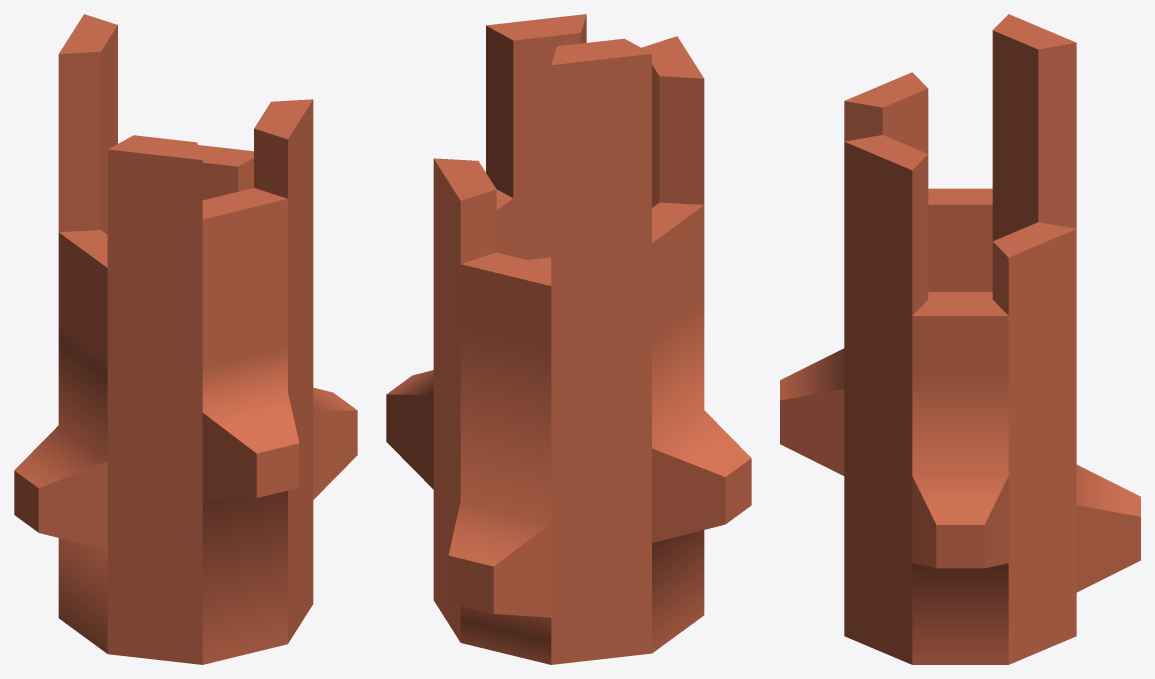
Rendered from deadtree1.fbx.
3 renders of one model, left to right at view 1: azimuth 30°, elevation 25°; view 2: azimuth 150°, elevation 25°; view 3: azimuth 270°, elevation 25°, orthographic. The views are drawn at different scales.
Visible parts, largest first — view 1: trunk_detailedA, trunk_topBroken; view 2: trunk_detailedA, trunk_topBroken; view 3: trunk_detailedA, trunk_topBroken.
Boxes of the visible parts, box(x1,y1,x2,y2) form: trunk_detailedA: box(14, 307, 357, 664); trunk_topBroken: box(58, 14, 313, 367); trunk_detailedA: box(386, 257, 751, 664); trunk_topBroken: box(433, 14, 704, 349); trunk_detailedA: box(780, 292, 1140, 664); trunk_topBroken: box(844, 14, 1076, 373).
Bounding box in the file's own units: 5.62 × 9.5 × 5.62.
